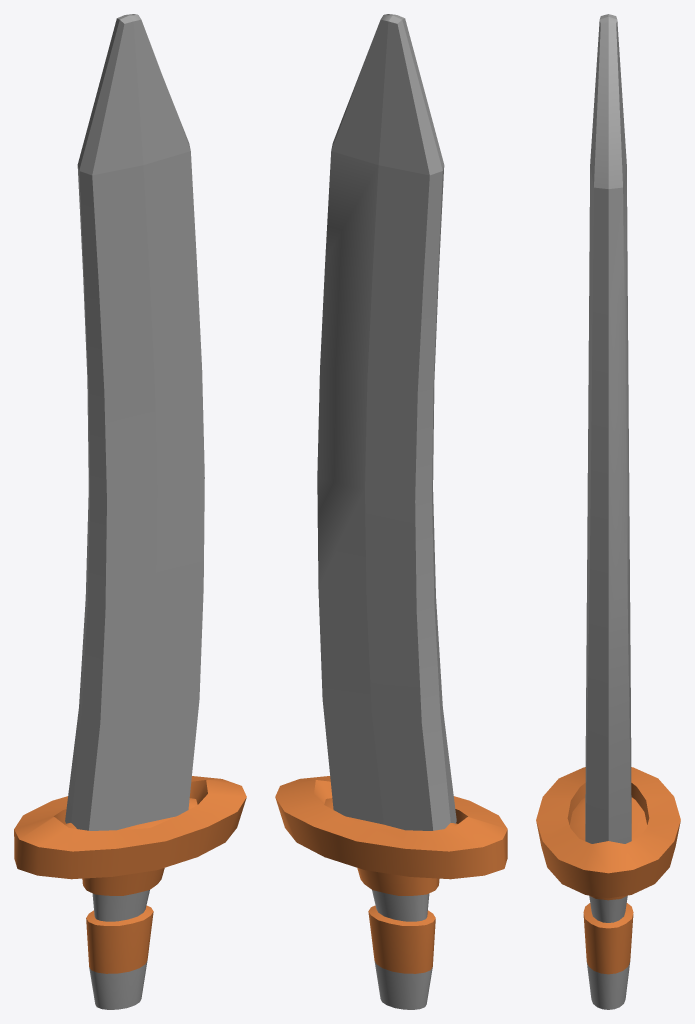
The model's file is sword.fbx.
The picture shows the model from 3 angles, left to right: view 1: azimuth 30°, elevation 25°; view 2: azimuth 150°, elevation 25°; view 3: azimuth 270°, elevation 25°; orthographic projection.
Visible parts, largest first — view 1: sword; view 2: sword; view 3: sword.
Part boxes in pixels (bbox=[...]): sword: bbox=[14, 14, 246, 1009]; sword: bbox=[275, 14, 507, 1009]; sword: bbox=[536, 14, 680, 1009].
Size of the model in its own units: 0.3751 by 1.57 by 0.2088.
